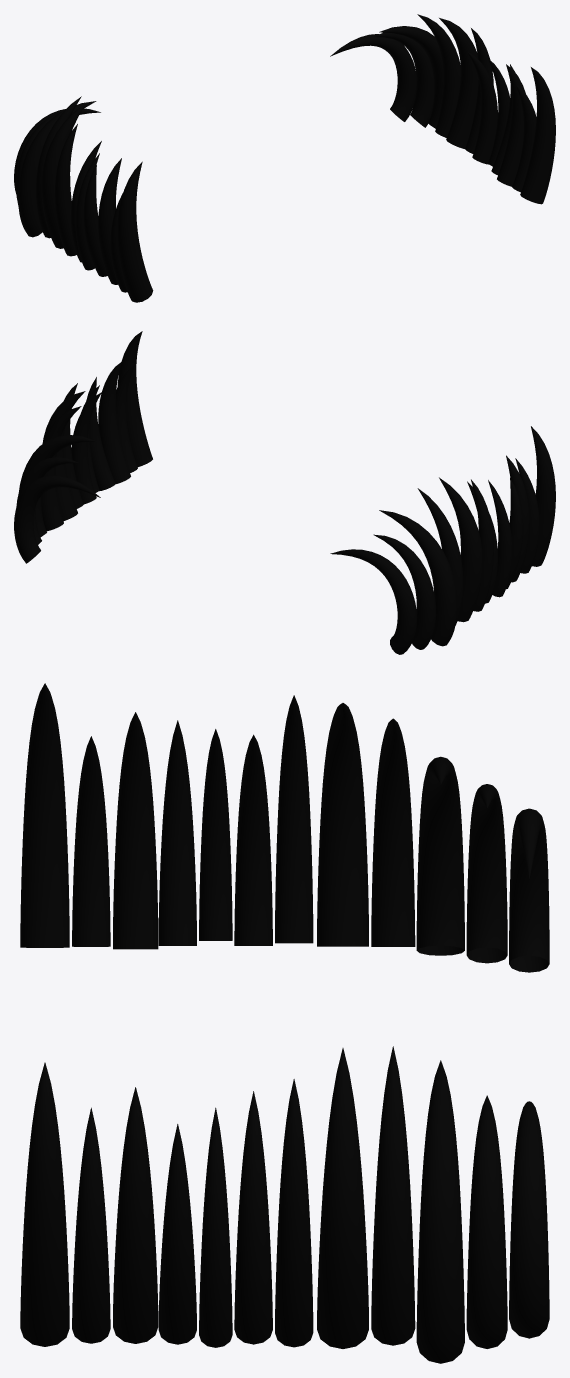
The model's file is Heart Boss Walls.fbx.
3 renders of one model, top to bottom at view 1: azimuth 30°, elevation 25°; view 2: azimuth 150°, elevation 25°; view 3: azimuth 270°, elevation 25°, orthographic. The views are drawn at different scales.
Visible parts, largest first — view 1: BézierCurve.012, BézierCurve.005, BézierCurve.003, BézierCurve.010, BézierCurve.004, BézierCurve.006, BézierCurve, BézierCurve.007, BézierCurve.002, BézierCurve.008, BézierCurve.011, BézierCurve.009; view 2: BézierCurve, BézierCurve.003, BézierCurve.012, BézierCurve.005, BézierCurve.010, BézierCurve.002, BézierCurve.004, BézierCurve.011, BézierCurve.009, BézierCurve.006, BézierCurve.007, BézierCurve.008; view 3: BézierCurve.005, BézierCurve.012, BézierCurve.003, BézierCurve.004, BézierCurve.010, BézierCurve.006, BézierCurve.002, BézierCurve, BézierCurve.007, BézierCurve.011, BézierCurve.009, BézierCurve.008.
Boxes of the visible parts, <box> form: BézierCurve.012: <box>117,67,555,302</box>; BézierCurve.005: <box>41,18,478,248</box>; BézierCurve.003: <box>18,26,443,237</box>; BézierCurve.010: <box>98,64,525,284</box>; BézierCurve.004: <box>36,14,460,238</box>; BézierCurve.006: <box>55,28,493,256</box>; BézierCurve: <box>14,34,416,194</box>; BézierCurve.007: <box>71,51,497,262</box>; BézierCurve.002: <box>16,32,434,204</box>; BézierCurve.008: <box>75,58,510,270</box>; BézierCurve.011: <box>110,84,536,292</box>; BézierCurve.009: <box>83,64,514,276</box>; BézierCurve: <box>14,475,417,654</box>; BézierCurve.003: <box>19,435,457,646</box>; BézierCurve.012: <box>117,331,555,566</box>; BézierCurve.005: <box>43,391,482,622</box>; BézierCurve.010: <box>98,362,529,582</box>; BézierCurve.002: <box>16,457,436,649</box>; BézierCurve.004: <box>41,406,463,625</box>; BézierCurve.011: <box>116,365,539,573</box>; BézierCurve.009: <box>86,377,523,589</box>; BézierCurve.006: <box>63,383,493,611</box>; BézierCurve.007: <box>71,392,497,603</box>; BézierCurve.008: <box>81,385,512,597</box>; BézierCurve.005: <box>317,703,368,1348</box>; BézierCurve.012: <box>20,683,69,1346</box>; BézierCurve.003: <box>416,756,464,1363</box>; BézierCurve.004: <box>371,718,415,1345</box>; BézierCurve.010: <box>113,712,158,1343</box>; BézierCurve.006: <box>275,695,313,1347</box>; BézierCurve.002: <box>466,784,507,1348</box>; BézierCurve: <box>509,808,549,1338</box>; BézierCurve.007: <box>234,734,272,1344</box>; BézierCurve.011: <box>72,736,110,1343</box>; BézierCurve.009: <box>158,720,196,1344</box>; BézierCurve.008: <box>199,729,232,1347</box>.
Bounding box in the file's own units: 1781 × 557 × 931.
